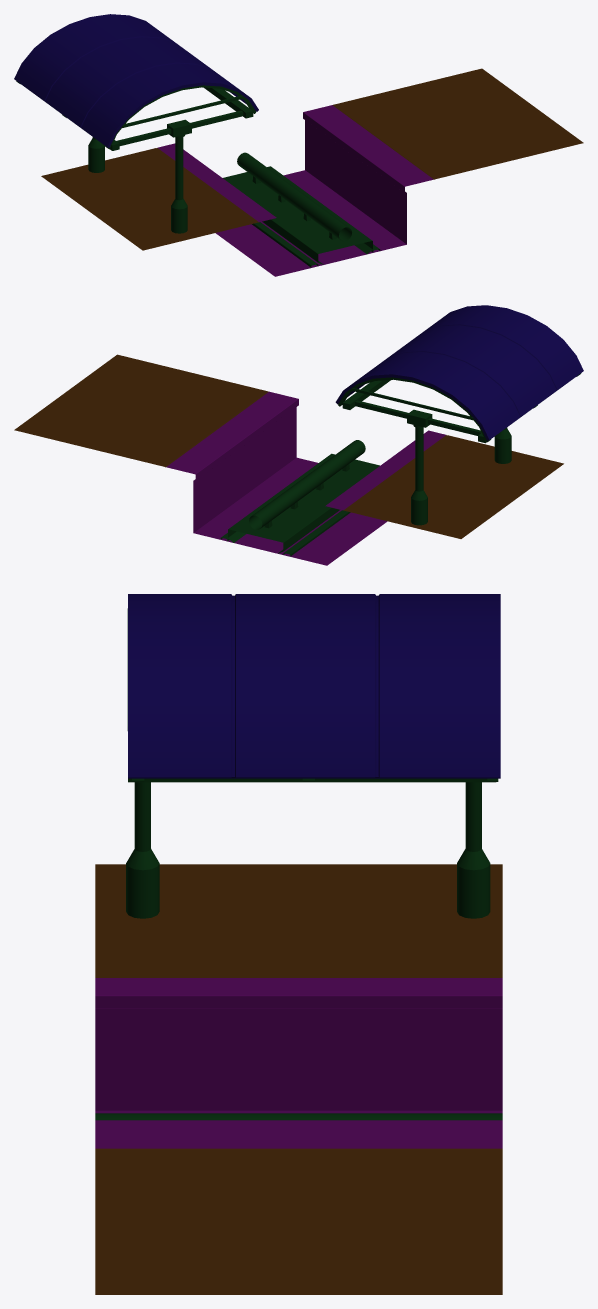
Rendered from TramTrack_Roofed_01.FBX.
3 views of the same model, one above another, from view 1: azimuth 30°, elevation 25°; view 2: azimuth 150°, elevation 25°; view 3: azimuth 270°, elevation 25° (orthographic). The views are drawn at different scales.
Parts seen in each view (by area): view 1: TramTrack_Roofed_01_LOD0; view 2: TramTrack_Roofed_01_LOD0; view 3: TramTrack_Roofed_01_LOD0.
Boxes of the visible parts, box(x1,y1,x2,y2) form: TramTrack_Roofed_01_LOD0: box(14, 14, 583, 276); TramTrack_Roofed_01_LOD0: box(14, 305, 583, 565); TramTrack_Roofed_01_LOD0: box(95, 594, 502, 1294).
Size of what is drawn, in the model's own units: 2124 by 893 by 800.
